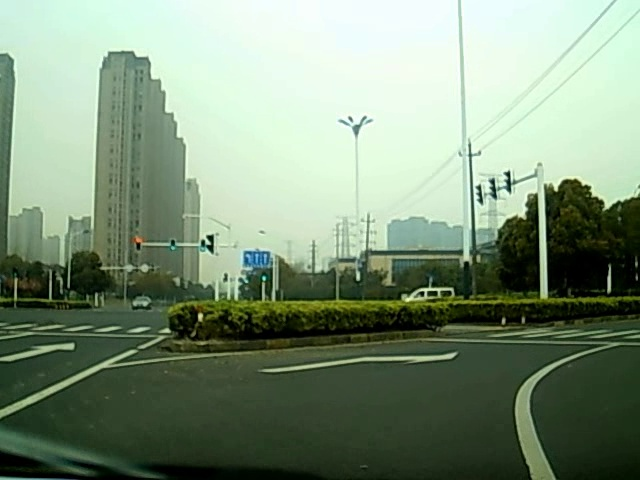Traffic_Light_go: (169, 239, 178, 253), (260, 271, 268, 282), (199, 240, 206, 252)
Traffic_Light_stop: (134, 236, 143, 253)
